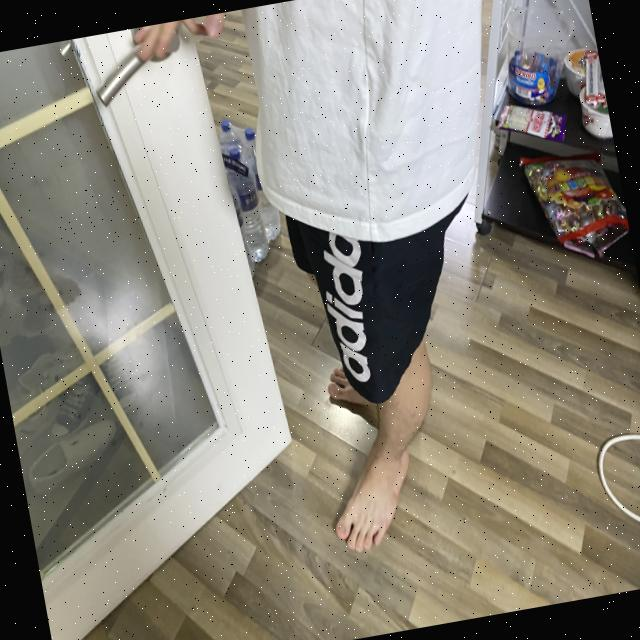no-boots: (312, 417, 442, 577), (321, 353, 421, 430)
